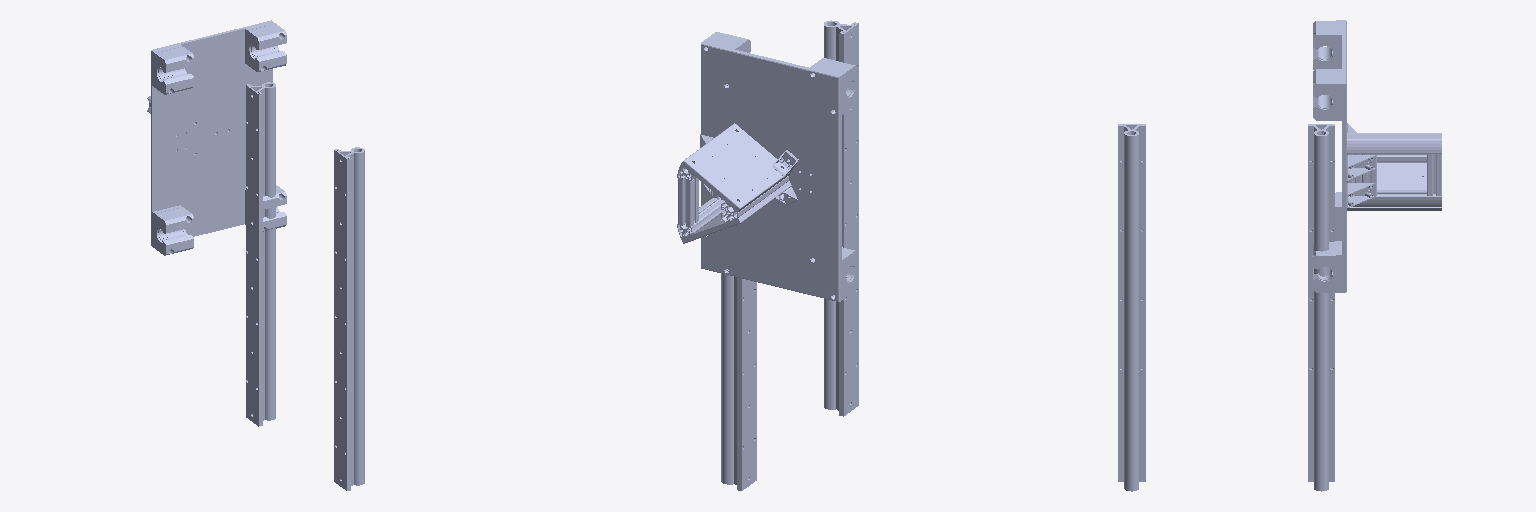
The robot description file, URDF, robot "torso":
<robot
  name="torso">
  <link
    name="torso_base_link">
    <inertial>
      <origin
        xyz="0.0307745199844149 -0.285 0.513294719377322"
        rpy="0 0 0" />
      <mass
        value="3.82694041846288" />
      <inertia
        ixx="0.573902290642399"
        ixy="-2.79383327284778E-16"
        ixz="1.66346332789765E-05"
        iyy="0.338648611077492"
        iyz="-1.04080029390922E-16"
        izz="0.239577094605918" />
    </inertial>
    <visual>
      <origin
        xyz="0 0 0"
        rpy="0 0 0" />
      <geometry>
        <mesh
          filename="package://iai_boxy_torso/meshes/torso_base_link.STL" />
      </geometry>
      <material
        name="">
        <color
          rgba="0.792156862745098 0.819607843137255 0.933333333333333 1" />
      </material>
    </visual>
    <collision>
      <origin
        xyz="0 0 0"
        rpy="0 0 0" />
      <geometry>
        <mesh
          filename="package://iai_boxy_torso/meshes/torso_base_link.STL" />
      </geometry>
    </collision>
  </link>
  <link
    name="triangle_base_link">
    <inertial>
      <origin
        xyz="-0.302419226632933 -0.181352787411384 -0.0325004871109191"
        rpy="0 0 0" />
      <mass
        value="7.36699467665114" />
      <inertia
        ixx="0.145376830313475"
        ixy="0.00013303151578814"
        ixz="4.5364480793564E-05"
        iyy="0.280518816650801"
        iyz="-0.00910948982082533"
        izz="0.330070759835274" />
    </inertial>
    <visual>
      <origin
        xyz="0 0 0"
        rpy="0 0 0" />
      <geometry>
        <mesh
          filename="package://iai_boxy_torso/meshes/triangle_base_link.STL" />
      </geometry>
      <material
        name="">
        <color
          rgba="0.792156862745098 0.819607843137255 0.933333333333333 1" />
      </material>
    </visual>
    <collision>
      <origin
        xyz="0 0 0"
        rpy="0 0 0" />
      <geometry>
        <mesh
          filename="package://iai_boxy_torso/meshes/triangle_base_link.STL" />
      </geometry>
    </collision>
  </link>
  <joint
    name="triangle_base_joint"
    type="prismatic">
    <origin
      xyz="0.1 0.0175 0.58662489"
      rpy="-1.5708 -5.5511E-17 1.5708" />
    <parent
      link="torso_base_link" />
    <child
      link="triangle_base_link" />
    <axis
      xyz="0 -1 0" />
    <limit
      lower="-0.586"
      upper="0"
      effort="0"
      velocity="0.02" />
  </joint>

  <transmission 
    name="triangle_base_transmission" 
    type="pr2_mechanism_model/SimpleTransmission">
    <actuator name="triangle_base_motor"/>
    <joint name="triangle_base_joint"/>
    <mechanicalReduction>1.0</mechanicalReduction>
  </transmission>

  <link
    name="triangle_left_arm_link" />
  <joint
    name="triangle_left_arm_joint"
    type="fixed">
    <origin
      xyz="-0.239507442352261 -0.181209704131733 -0.137000000000002"
      rpy="2.61799387796333 -1.5707963267949 0" />
    <parent
      link="triangle_base_link" />
    <child
      link="triangle_left_arm_link" />
    <axis
      xyz="0 0 0" />
  </joint>
  <link
    name="triangle_right_arm_link" />
  <joint
    name="triangle_right_arm_joint"
    type="fixed">
    <origin
      xyz="-0.365488160465715 -0.181209539931436 -0.137"
      rpy="2.61799387801966 1.5707963267949 0" />
    <parent
      link="triangle_base_link" />
    <child
      link="triangle_right_arm_link" />
    <axis
      xyz="0 0 0" />
  </joint>
</robot>

--- What the picture shows (computed from the rendered views, not written in the file) ---
3 views of the same robot in one strip: view 1: azimuth 30°, elevation 25°; view 2: azimuth 150°, elevation 25°; view 3: azimuth 270°, elevation 25° (orthographic).
Model torso with 4 links and 3 joints (1 prismatic, 2 fixed), rooted at torso_base_link, posed every joint at zero.
Links seen in each view (by area): view 1: triangle_base_link, torso_base_link; view 2: triangle_base_link, torso_base_link; view 3: torso_base_link, triangle_base_link.
Boxes of the visible links, bbox=[...] form: triangle_base_link: bbox=[147, 20, 286, 255]; torso_base_link: bbox=[246, 82, 364, 490]; triangle_base_link: bbox=[677, 32, 857, 301]; torso_base_link: bbox=[721, 20, 858, 490]; torso_base_link: bbox=[1118, 124, 1334, 491]; triangle_base_link: bbox=[1313, 20, 1441, 292].
Size in the robot's own frame: 0.391 by 0.8495 by 1.19 metres.
2 mesh visuals loaded from 2 distinct referenced files (2 binary STL).